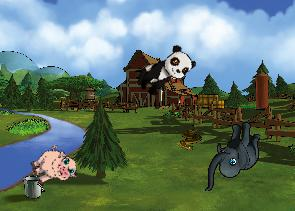elephant: (204, 121, 260, 191)
panda: (131, 41, 198, 102)
pig: (26, 141, 80, 193)
